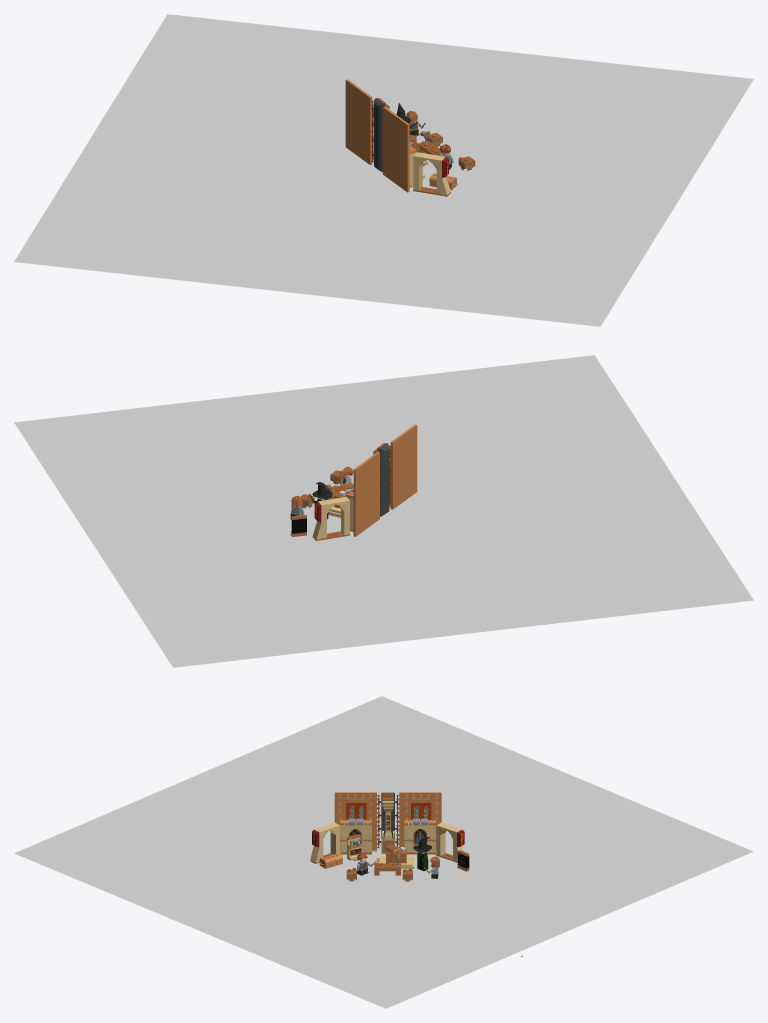
Rendered from harrypotter.glb.
3 views of the same model, one above another, from view 1: azimuth 30°, elevation 25°; view 2: azimuth 150°, elevation 25°; view 3: azimuth 270°, elevation 25° (orthographic). The views are drawn at different scales.
Parts seen in each view (by area): view 1: Plane.010, Cube.035, Cube.040, Cube.079, Cube.032; view 2: Plane.010, Cube.035, Cube.040, Cube.079, Cube.032; view 3: Plane.010, Cube.035, Cube.052, Cube.079, Plane.002.
Part boxes in pixels (x1,y1,x2,y2): Plane.010: (14, 14, 753, 326); Cube.035: (345, 79, 409, 192); Cube.040: (351, 99, 407, 188); Cube.079: (413, 152, 450, 195); Cube.032: (374, 98, 384, 172); Plane.010: (14, 355, 753, 667); Cube.035: (353, 424, 417, 536); Cube.040: (360, 426, 417, 528); Cube.079: (313, 497, 349, 539); Cube.032: (378, 443, 389, 516); Plane.010: (14, 696, 753, 1008); Cube.035: (334, 792, 441, 851); Cube.052: (340, 821, 435, 855); Cube.079: (310, 822, 463, 862); Plane.002: (346, 803, 431, 819).
Bounding box in the file's own units: 140 × 28.17 × 140.
34 materials, 9 textured.
